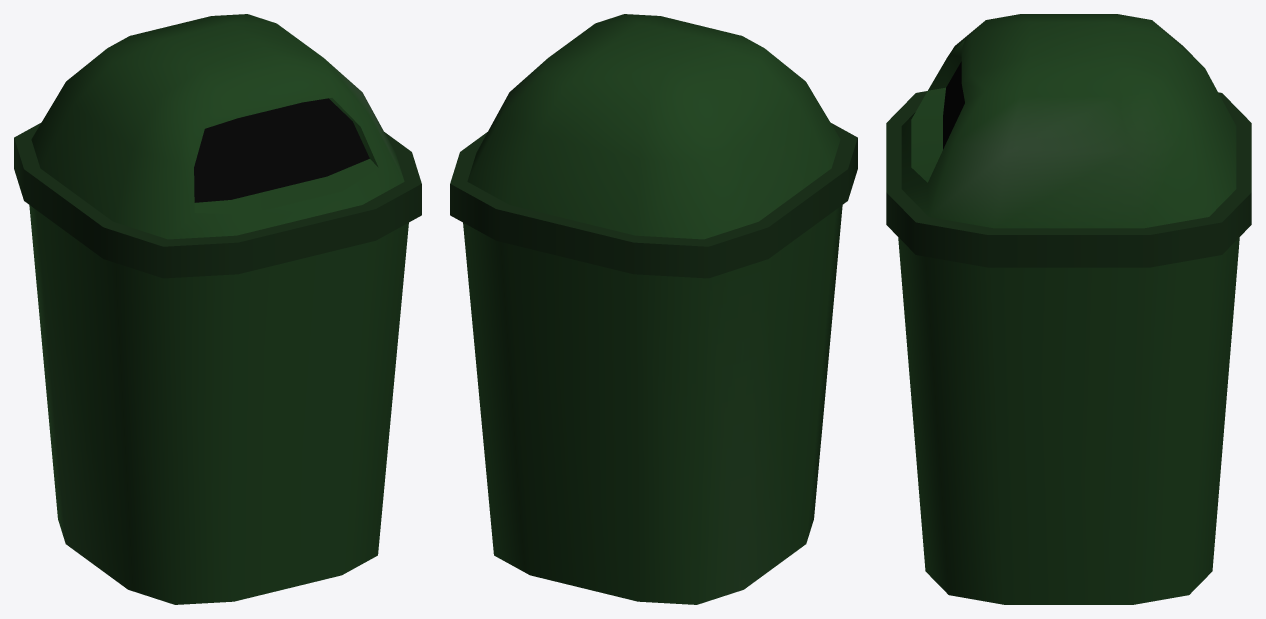
Rendered from Lixeira.fbx.
3 renders of one model, left to right at view 1: azimuth 30°, elevation 25°; view 2: azimuth 150°, elevation 25°; view 3: azimuth 270°, elevation 25°, orthographic. The views are drawn at different scales.
Visible parts, largest first — view 1: Lixeira; view 2: Lixeira; view 3: Lixeira.
Boxes of the visible parts, x1=… form: Lixeira: x1=14, y1=14, x2=421, y2=604; Lixeira: x1=450, y1=14, x2=857, y2=604; Lixeira: x1=886, y1=14, x2=1251, y2=604.
Bounding box in the file's own units: 49.96 × 76.17 × 49.96.
